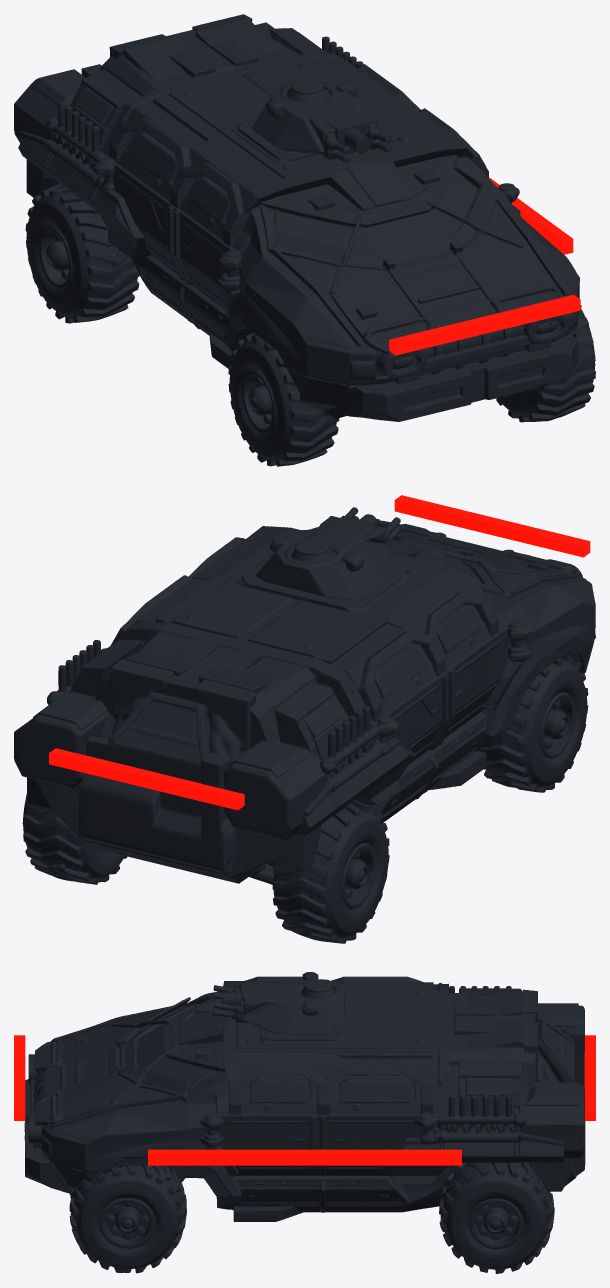
Rendered from xenon_vehicle_xenon.glb.
3 views of the same model, one above another, from view 1: azimuth 30°, elevation 25°; view 2: azimuth 150°, elevation 25°; view 3: azimuth 270°, elevation 25° (orthographic). The views are drawn at different scales.
Parts seen in each view (by area): view 1: texture_pbr_v128, XenonGlow_Left, XenonGlow_Front; view 2: texture_pbr_v128, XenonGlow_Left, XenonGlow_Right; view 3: texture_pbr_v128, XenonGlow_Front, XenonGlow_Left, XenonGlow_Right.
Boxes of the visible parts, x1,y1,x2,y2 form: texture_pbr_v128: (14,14,595,466); XenonGlow_Left: (389,294,580,355); XenonGlow_Front: (489,177,573,254); texture_pbr_v128: (14,507,595,943); XenonGlow_Left: (394,495,590,557); XenonGlow_Right: (49,748,244,810); texture_pbr_v128: (24,972,585,1273); XenonGlow_Front: (148,1149,461,1165); XenonGlow_Left: (14,1035,25,1120); XenonGlow_Right: (584,1035,595,1120).
Size of the model in its own units: 0.6022 by 0.4968 by 1.13.
